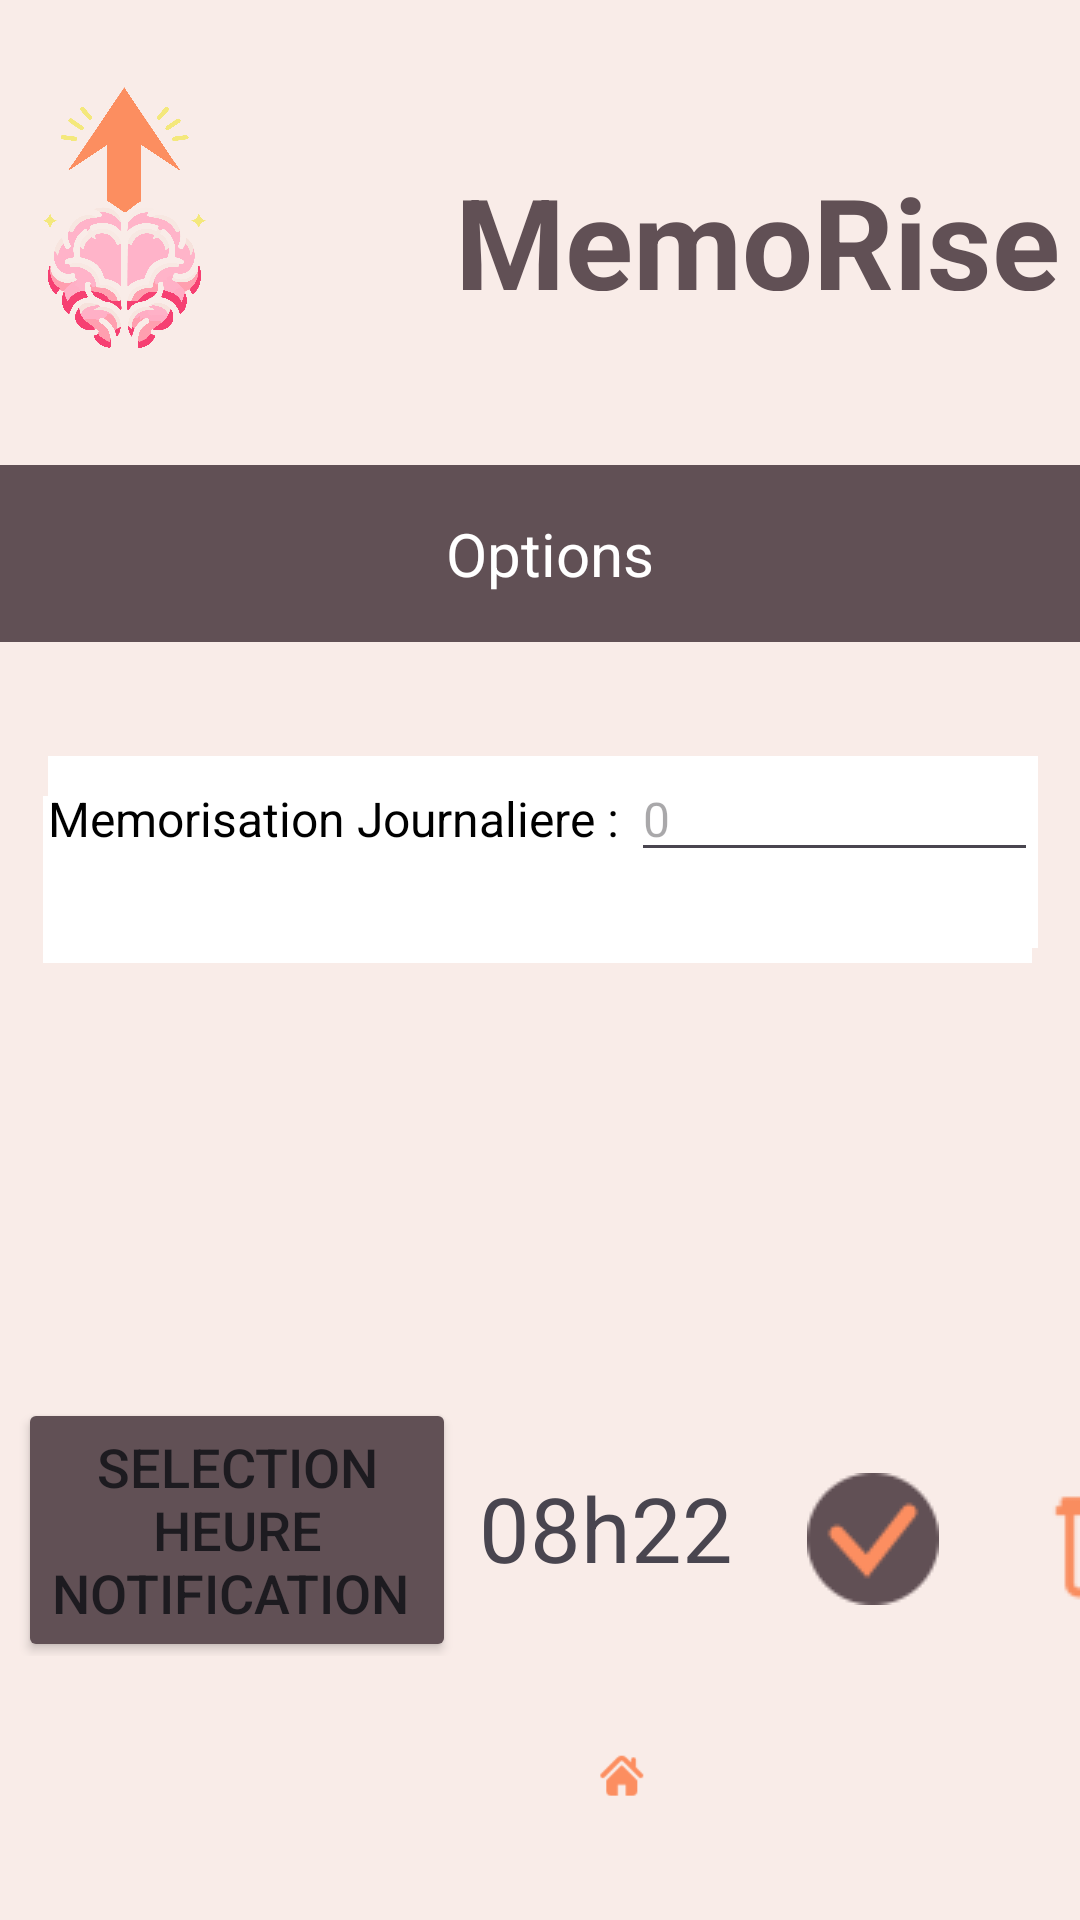

Where to tap for icons on this 1080×1920 app screen, as point (x, y):
home: point (622, 1775)
memorise: point (125, 217)
valid: point (873, 1539)
